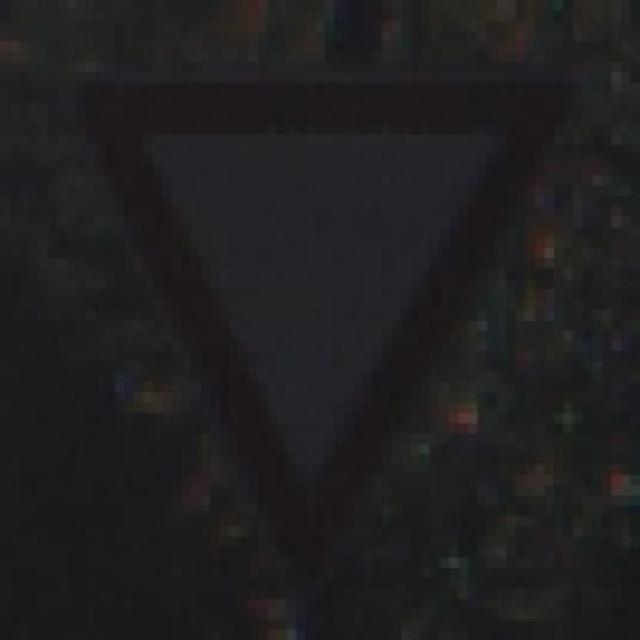Give Way: (57, 62, 574, 558)
